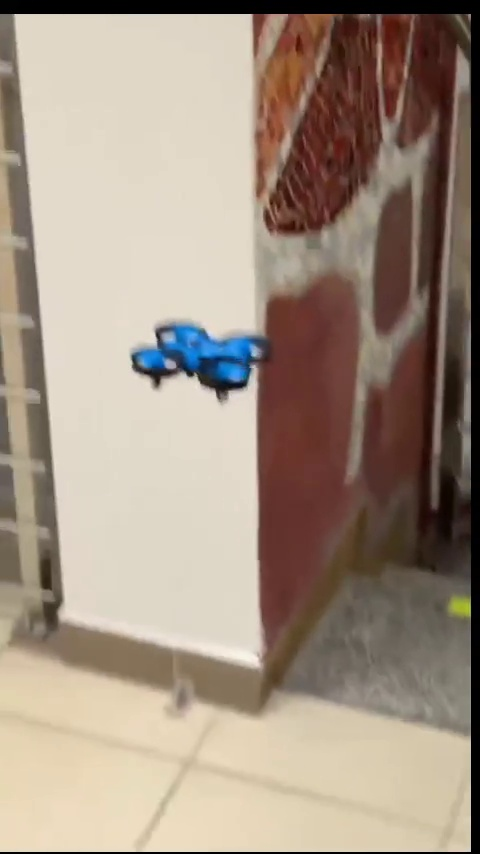drone: (125, 321, 292, 405)
